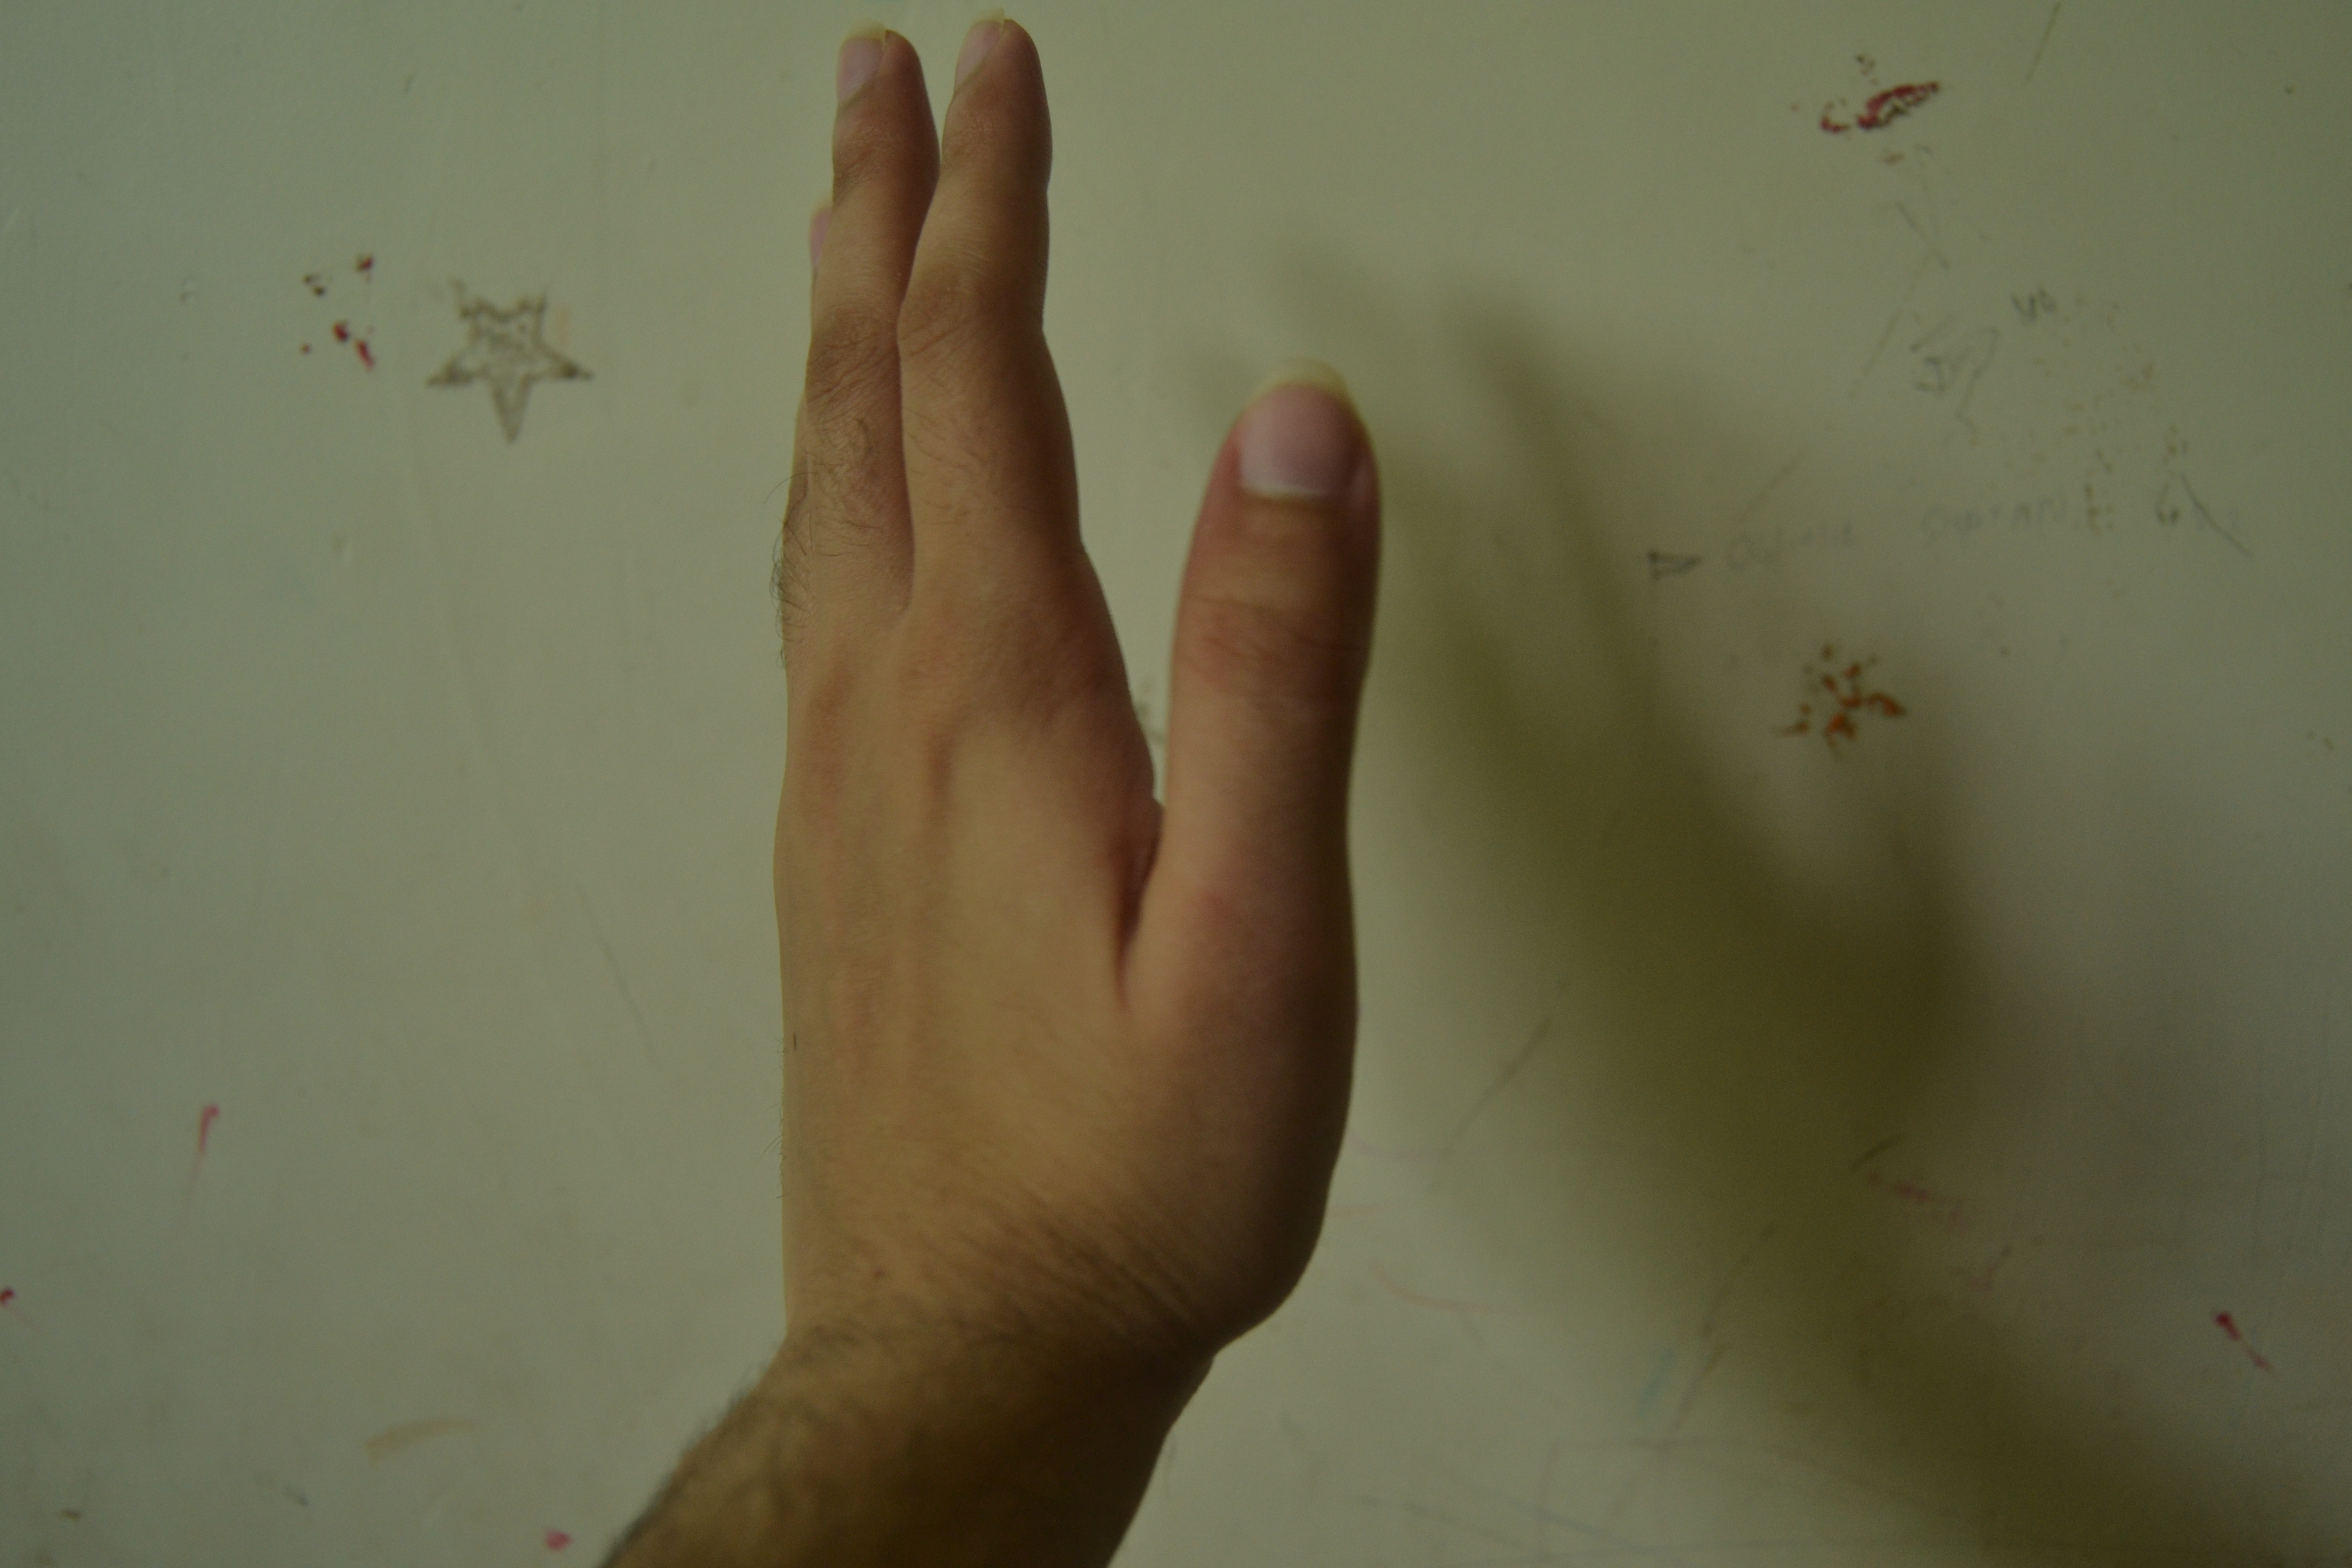move: (759, 0, 1400, 1438)
